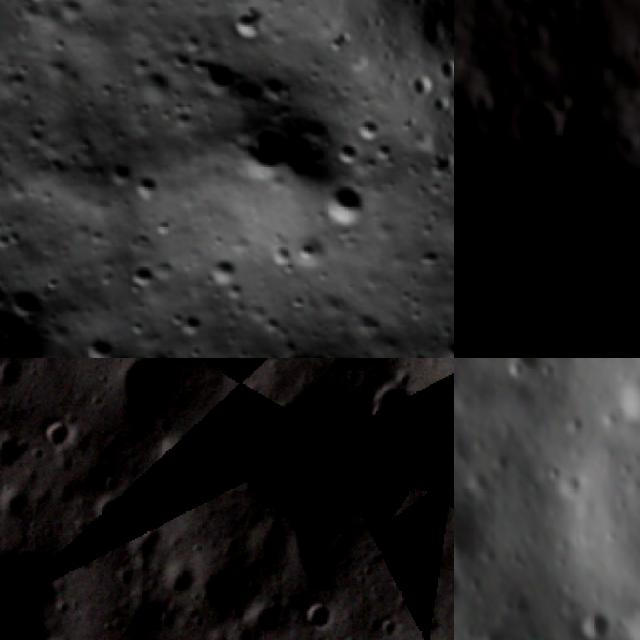crater: (195, 358, 411, 604), (216, 73, 360, 215), (98, 358, 223, 449), (0, 521, 75, 640), (0, 280, 74, 358), (191, 560, 262, 640), (178, 40, 247, 109), (315, 170, 382, 237), (359, 368, 423, 437), (222, 0, 283, 59), (510, 91, 566, 153), (454, 484, 493, 572), (0, 267, 57, 327), (113, 252, 170, 310), (560, 47, 618, 103), (118, 587, 177, 640), (198, 244, 253, 300), (84, 487, 132, 545), (152, 428, 198, 484), (240, 593, 291, 640), (98, 144, 144, 189), (454, 75, 494, 126), (0, 426, 37, 480), (132, 159, 177, 203), (36, 413, 81, 456), (73, 323, 128, 358), (296, 596, 339, 640), (160, 560, 199, 607), (0, 480, 36, 529), (29, 570, 67, 612), (417, 490, 454, 530), (579, 603, 614, 640), (369, 610, 404, 640), (0, 358, 28, 395), (108, 562, 139, 591), (622, 594, 640, 640), (496, 0, 535, 15), (46, 358, 90, 371), (36, 630, 83, 640)
